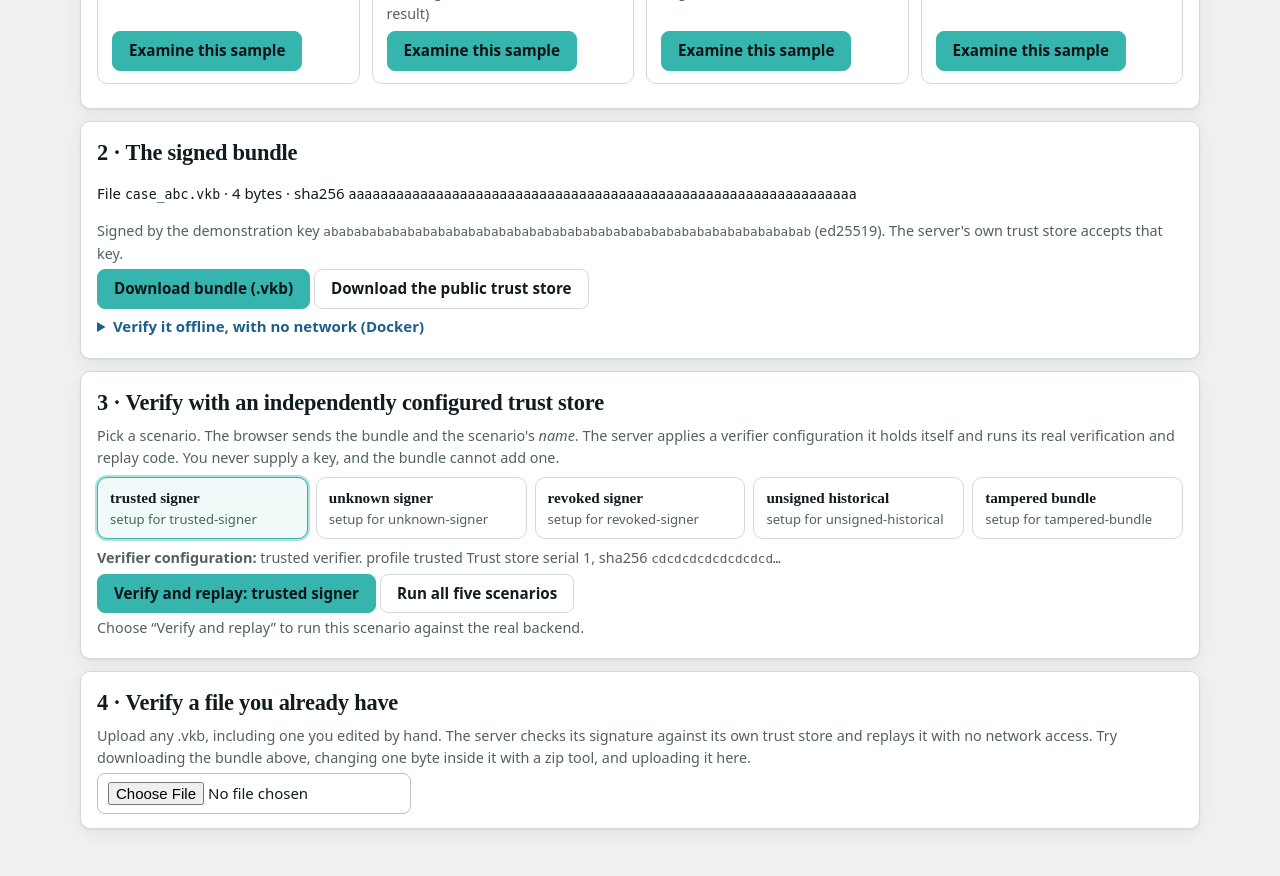
Test: VerifyLab › shows a failed verification as an error, never as a result
(page scrolled)
Click the button with test id "verify-button": coordinates (236, 594) [97,574,376,613]
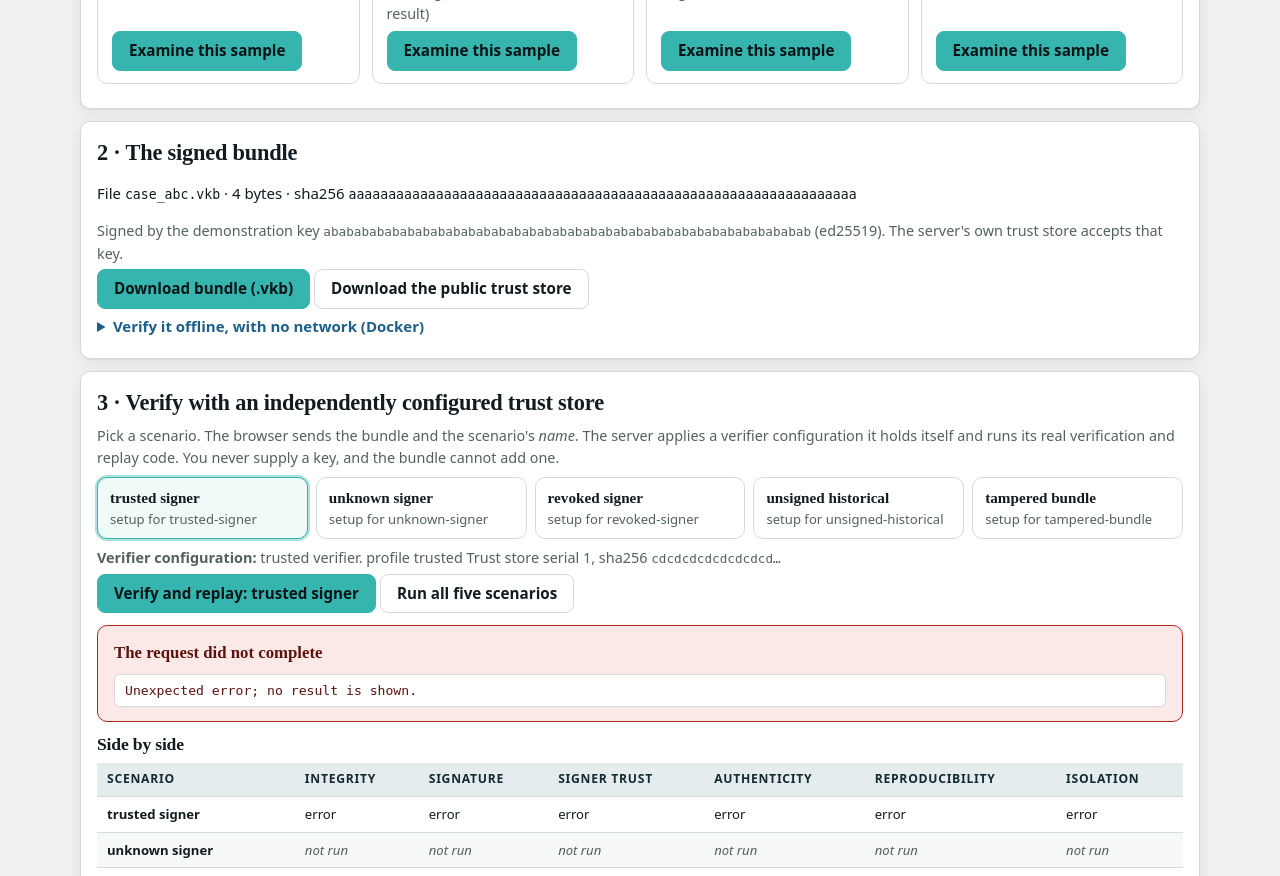
Now the text "Unexpected error; no result is shown." is shown, box [114,674,1166,707]
